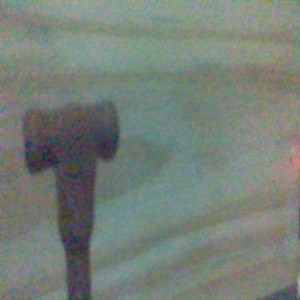palu: (22, 98, 120, 300)
